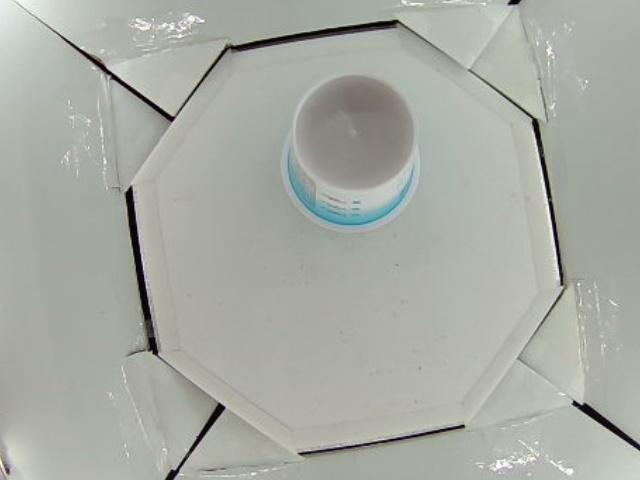Cup: (281, 71, 420, 233)
